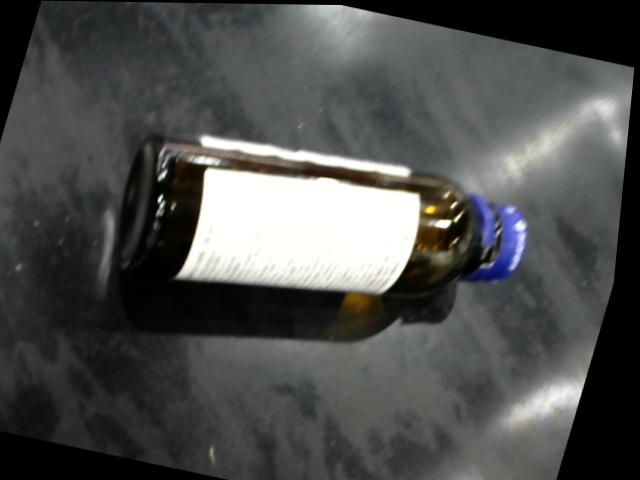glass: (119, 133, 535, 298)
